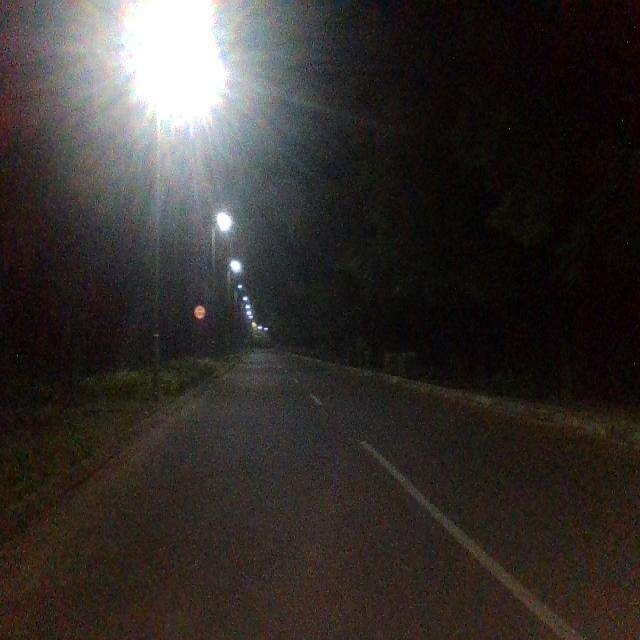lane: (1, 359, 566, 640)
